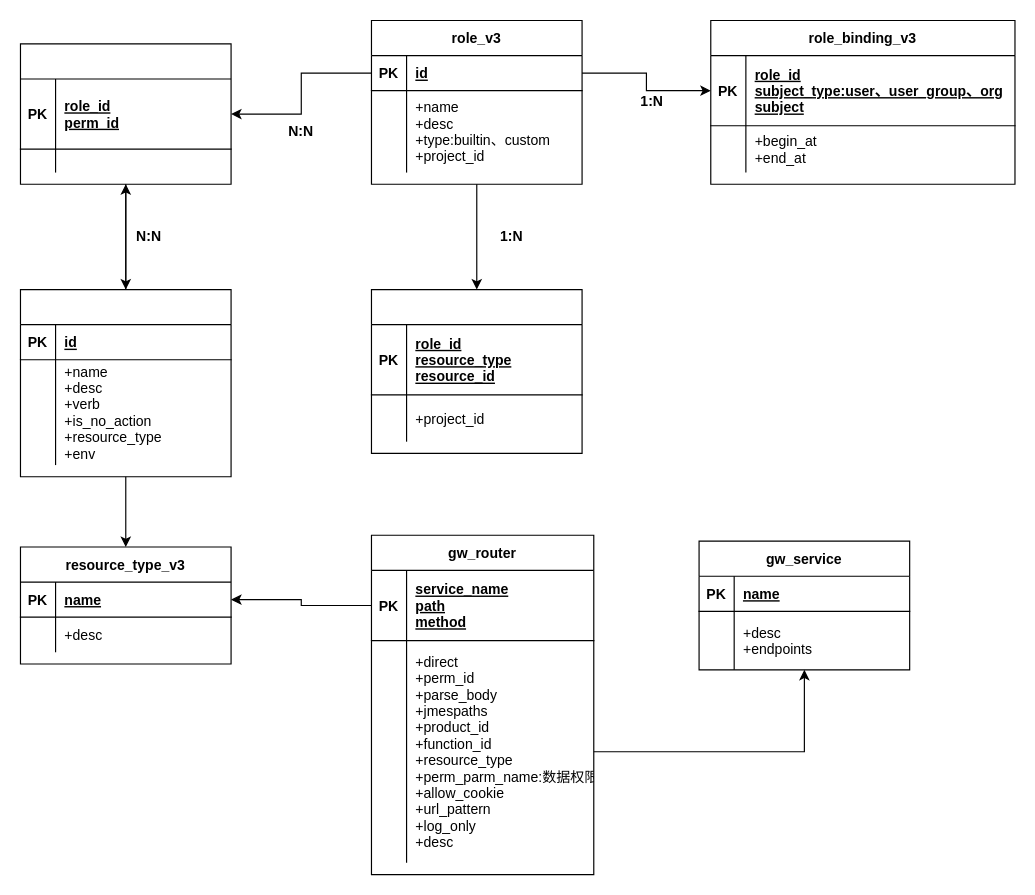
Image size: 1035x895. Some labels were removed from this diagram. Each missing label, with the box of its shape:
perm_v3: (19, 288, 231, 477)
role_perm_v3: (19, 43, 231, 184)
role_resource_v3: (370, 288, 582, 453)
